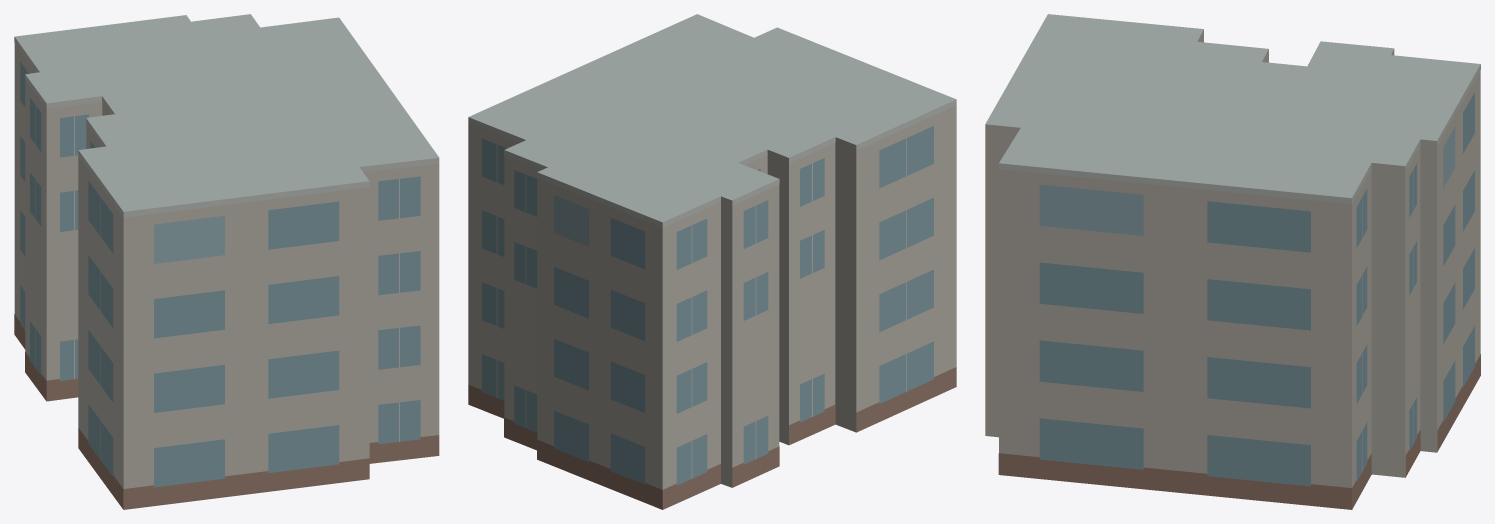
Rendered from survey-upis-32844998.glb.
3 views of the same model, side by side, from view 1: azimuth 30°, elevation 25°; view 2: azimuth 150°, elevation 25°; view 3: azimuth 270°, elevation 25° (orthographic). The views are drawn at different scales.
Visible parts, largest first — view 1: survey-upis-32844998.tmp; view 2: survey-upis-32844998.tmp; view 3: survey-upis-32844998.tmp.
Boxes of the visible parts, bbox=[...] form: survey-upis-32844998.tmp: bbox=[14, 14, 439, 509]; survey-upis-32844998.tmp: bbox=[468, 14, 956, 509]; survey-upis-32844998.tmp: bbox=[985, 14, 1480, 509].
Bounding box in the file's own units: 16.17 × 12.75 × 18.38.
